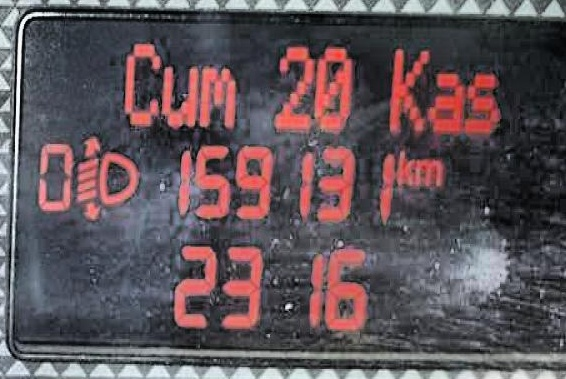0: (313, 44, 352, 129), (36, 138, 73, 212)
1: (172, 145, 192, 215), (375, 152, 394, 218), (306, 252, 322, 325), (296, 152, 313, 217)
2: (171, 244, 216, 325), (272, 44, 312, 130)
3: (220, 245, 261, 329), (315, 145, 354, 220)
5: (194, 142, 230, 215)
6: (324, 247, 367, 330)
9: (233, 143, 271, 217)
X: (386, 45, 430, 130), (121, 40, 162, 125), (426, 68, 463, 132), (197, 63, 234, 127), (161, 62, 196, 128), (465, 70, 501, 134), (413, 157, 442, 187), (396, 148, 412, 187)
